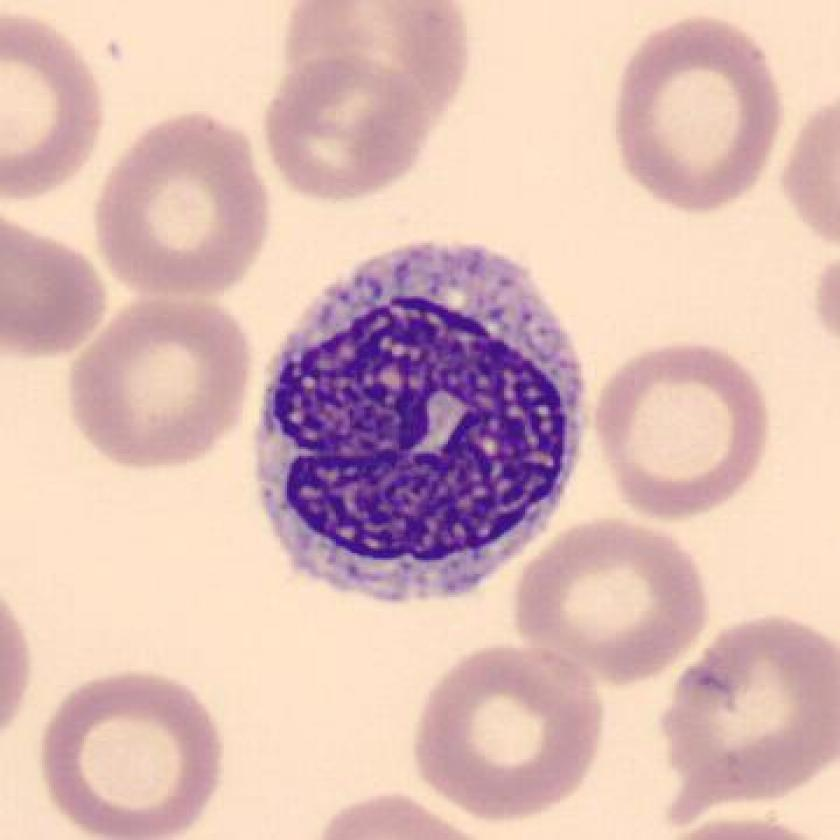monocyte: (235, 218, 613, 626)
